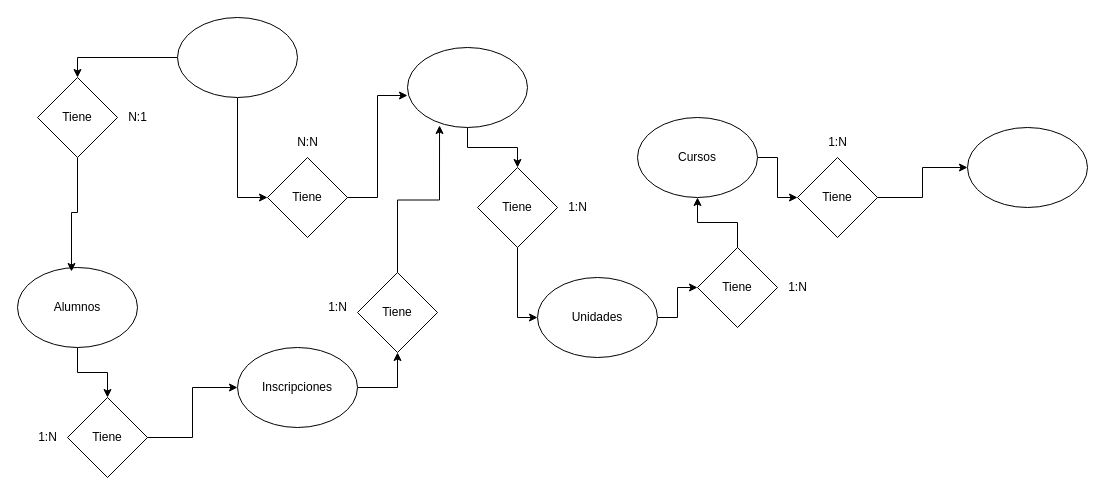
The diagram is 1105 pixels wide and 495 high, and some of its shapes have lost their labels. Each missing label, with the centre of its shape:
"Materiales" goes at pixel 1027 167.
"Nivel" goes at pixel 467 87.
"Profesores" goes at pixel 237 57.
